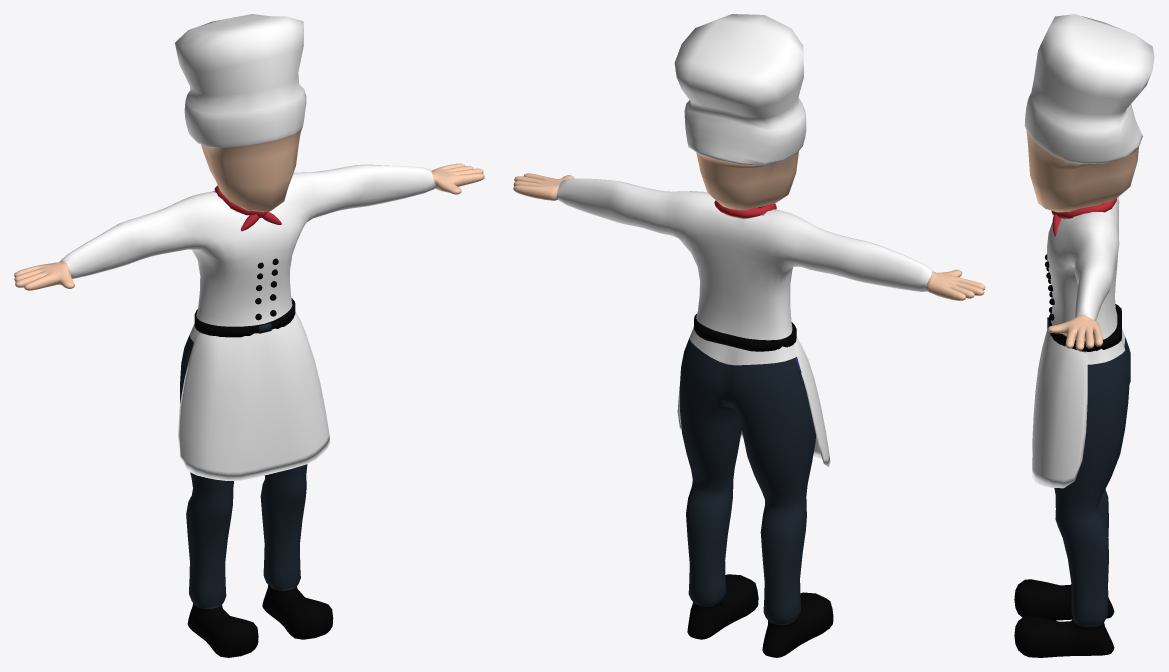
The model's file is CookCharacter.fbx.
The picture shows the model from 3 angles, left to right: view 1: azimuth 30°, elevation 25°; view 2: azimuth 150°, elevation 25°; view 3: azimuth 270°, elevation 25°; orthographic projection.
Parts seen in each view (by area): view 1: Cook_Low; view 2: Cook_Low; view 3: Cook_Low.
Part boxes in pixels (box(x1,y1,x2,y2)): Cook_Low: box(14, 14, 484, 657); Cook_Low: box(513, 14, 985, 657); Cook_Low: box(1014, 14, 1154, 657).
Bounding box in the file's own units: 149 × 185 × 38.71.
